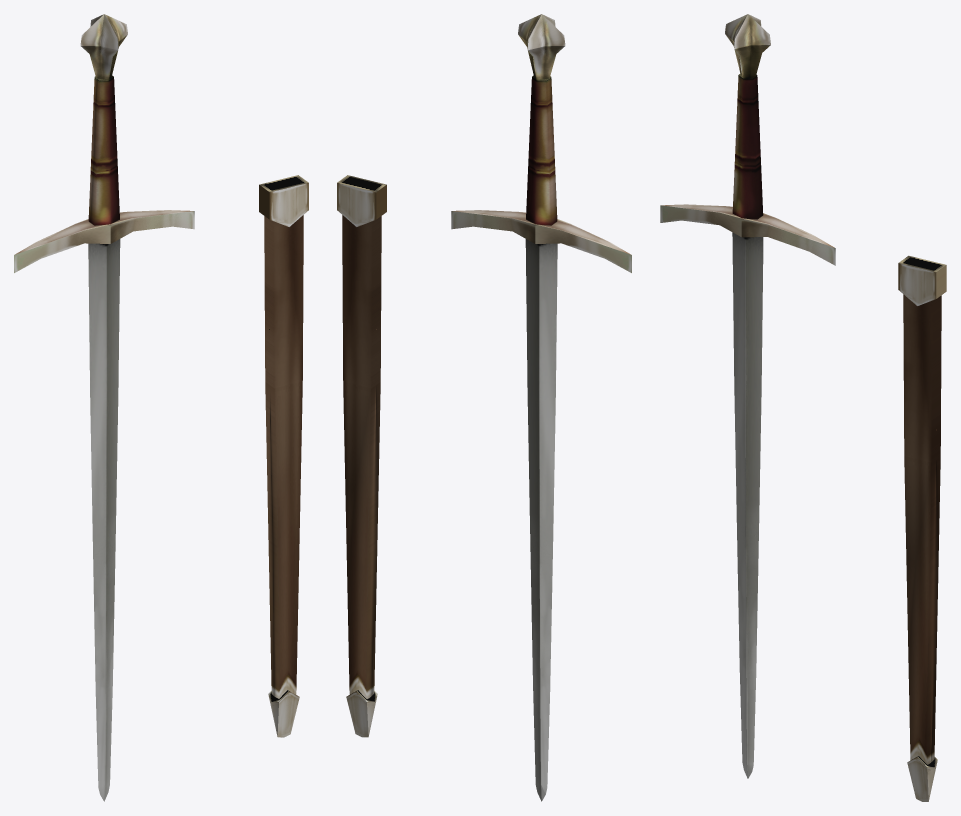
The model's file is broadsowrd1.FBX.
3 views of the same model, side by side, from view 1: azimuth 30°, elevation 25°; view 2: azimuth 150°, elevation 25°; view 3: azimuth 330°, elevation 25° (orthographic). The views are drawn at different scales.
Parts seen in each view (by area): view 1: Broadsword1; view 2: Broadsword1; view 3: Broadsword1.
Part boxes in pixels (x1,y1,x2,y2): Broadsword1: (14,14,308,801); Broadsword1: (337,14,631,801); Broadsword1: (660,14,946,801).
Size of the model in its own units: 31.43 by 81.72 by 5.31.
